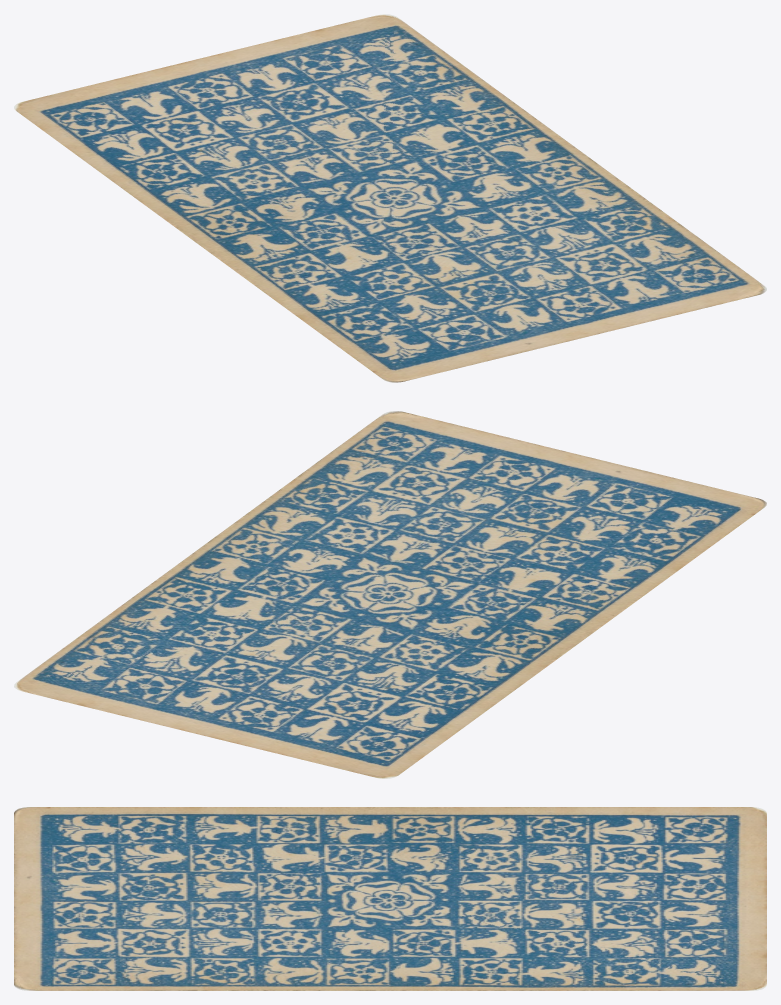
The model's file is cardback.glb.
3 views of the same model, one above another, from view 1: azimuth 30°, elevation 25°; view 2: azimuth 150°, elevation 25°; view 3: azimuth 270°, elevation 25° (orthographic).
Parts seen in each view (by area): view 1: cardback; view 2: cardback; view 3: cardback.
Part boxes in pixels (x1,y1,x2,y2): cardback: (14,14,766,382); cardback: (14,411,766,778); cardback: (14,807,766,990).
Bounding box in the file's own units: 0.5775 × 0 × 1.
1 material, 1 textured.
